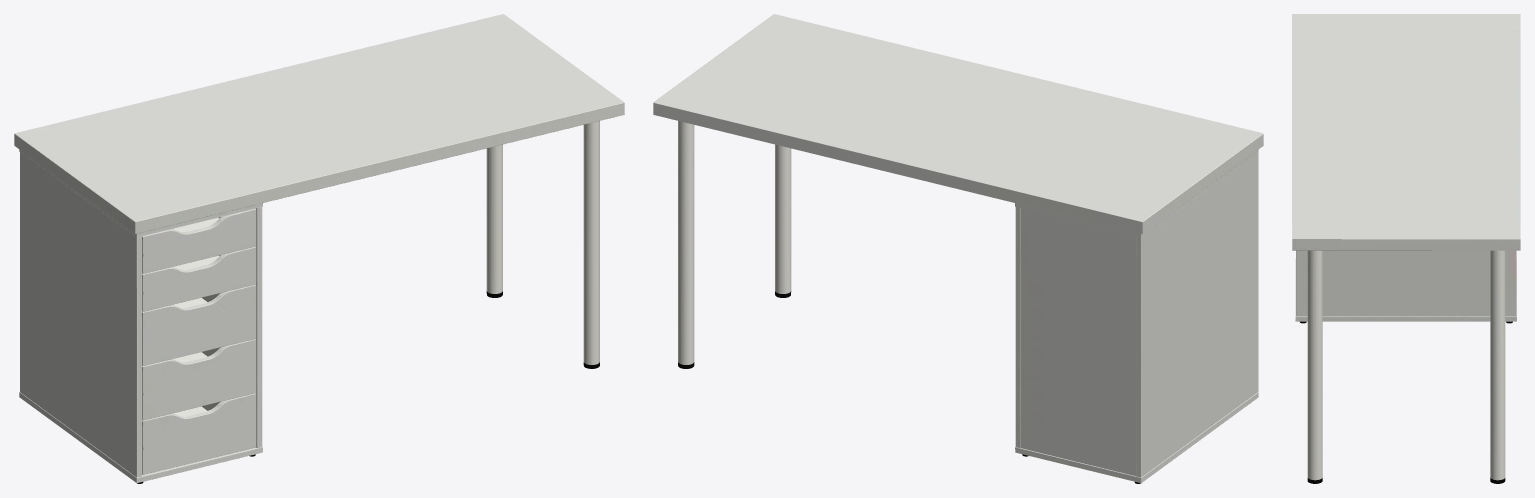
3 views of the same model, side by side, from view 1: azimuth 30°, elevation 25°; view 2: azimuth 150°, elevation 25°; view 3: azimuth 270°, elevation 25° (orthographic). The views are drawn at different scales.
Parts seen in each view (by area): view 1: GLTF; view 2: GLTF; view 3: GLTF.
Boxes of the visible parts, box(x1,y1,x2,y2) form: GLTF: box(14, 14, 624, 483); GLTF: box(653, 14, 1263, 483); GLTF: box(1292, 14, 1520, 483).
Bounding box in the file's own units: 1.4 × 0.73 × 0.5999.
1 material, 1 textured.
